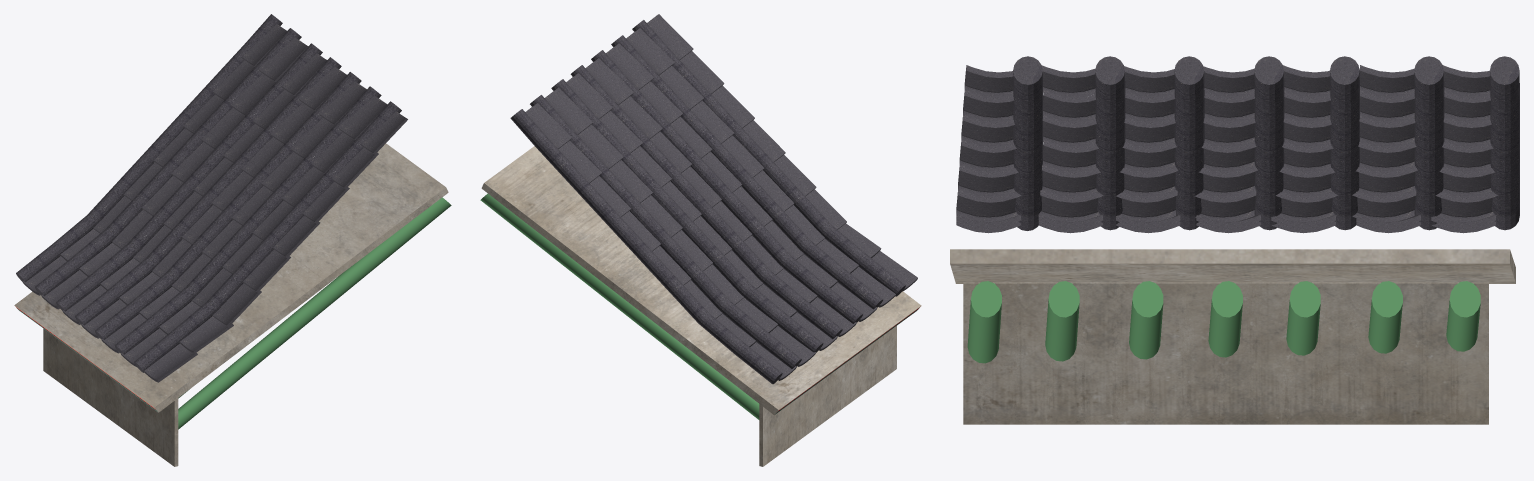
Rendered from SM_Roof_20.fbx.
3 renders of one model, left to right at view 1: azimuth 30°, elevation 25°; view 2: azimuth 150°, elevation 25°; view 3: azimuth 270°, elevation 25°, orthographic. The views are drawn at different scales.
Visible parts, largest first — view 1: SM_Roof_20; view 2: SM_Roof_20; view 3: SM_Roof_20.
Boxes of the visible parts, left/top/right/bottom form: SM_Roof_20: left=14, top=14, right=451, bottom=466; SM_Roof_20: left=480, top=14, right=921, bottom=466; SM_Roof_20: left=950, top=56, right=1519, bottom=424.
Size of the model in its own units: 559 by 453 by 520.
4 materials, 4 textured.
